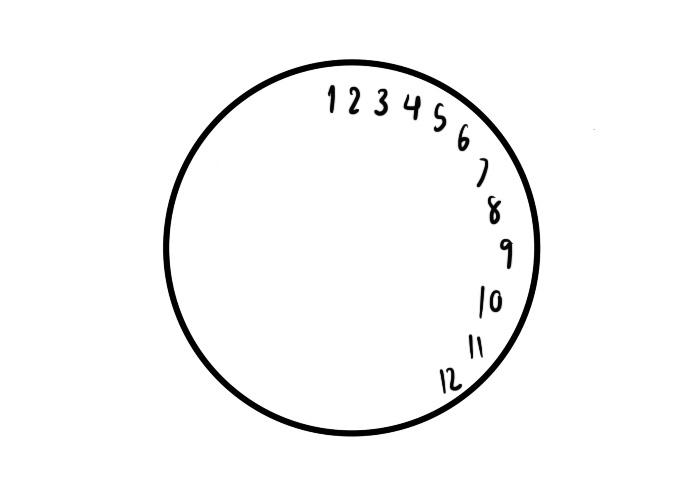eight: (485, 194, 503, 228)
eleven: (463, 330, 486, 362)
five: (431, 102, 447, 134)
four: (399, 87, 424, 126)
nine: (498, 235, 516, 274)
one: (323, 81, 338, 116)
seven: (473, 153, 490, 191)
six: (456, 119, 473, 156)
ten: (477, 284, 504, 319)
three: (371, 85, 392, 119)
twelve: (434, 366, 463, 393)
two: (345, 82, 361, 116)
